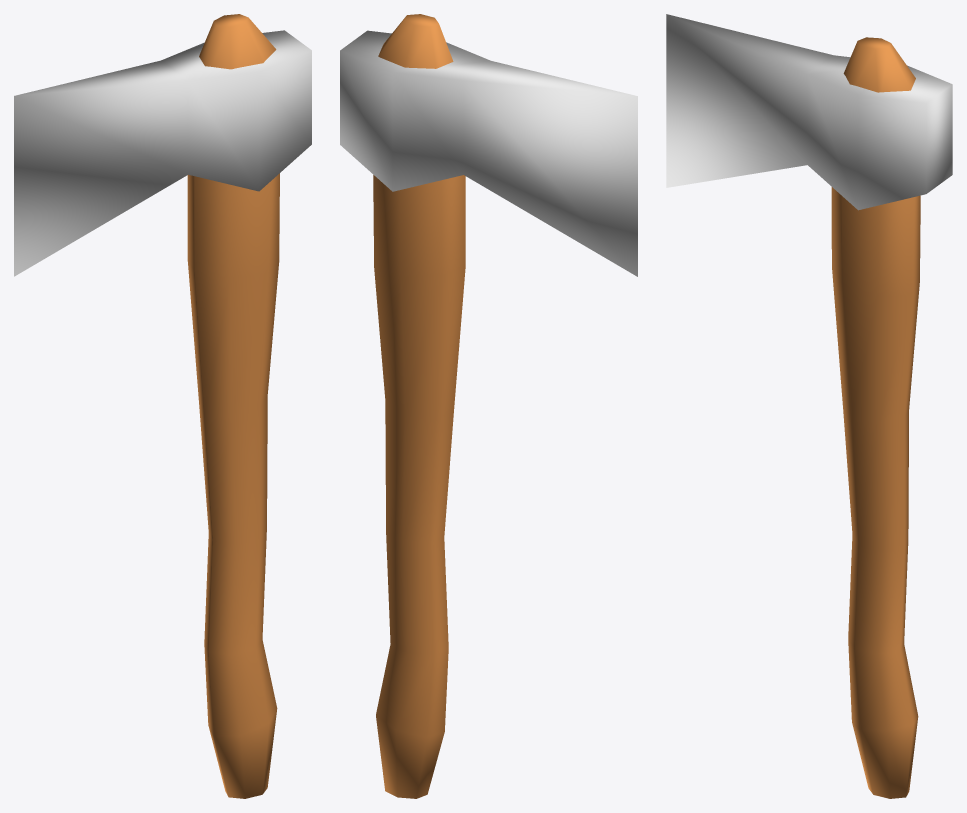
Rendered from IronAxe.fbx.
3 views of the same model, side by side, from view 1: azimuth 30°, elevation 25°; view 2: azimuth 150°, elevation 25°; view 3: azimuth 330°, elevation 25° (orthographic). The views are drawn at different scales.
Parts seen in each view (by area): view 1: Cylinder, Cube; view 2: Cylinder, Cube; view 3: Cylinder, Cube.
Boxes of the visible parts, x1,y1,x2,y2 form: Cylinder: (187,14,279,798); Cube: (14,30,311,276); Cylinder: (373,14,465,798); Cube: (340,30,637,276); Cylinder: (831,37,920,798); Cube: (666,14,952,210).
Size of the model in its own units: 720 by 1876 by 200.
